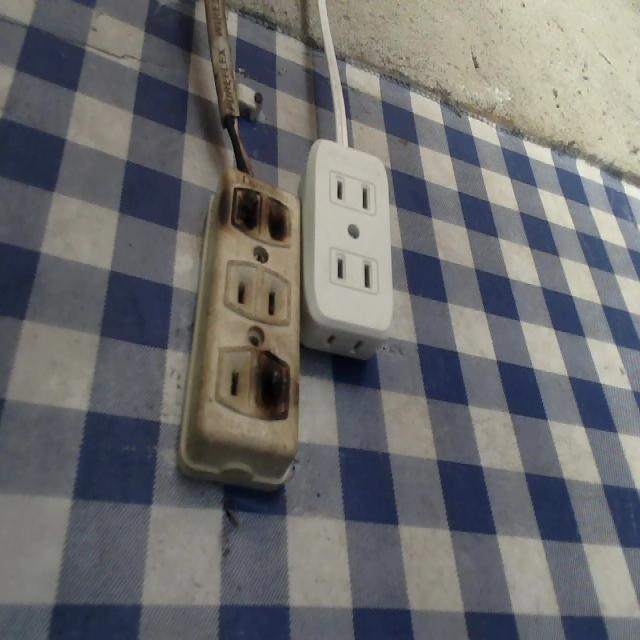-: (228, 183, 297, 245), (249, 346, 295, 430)
